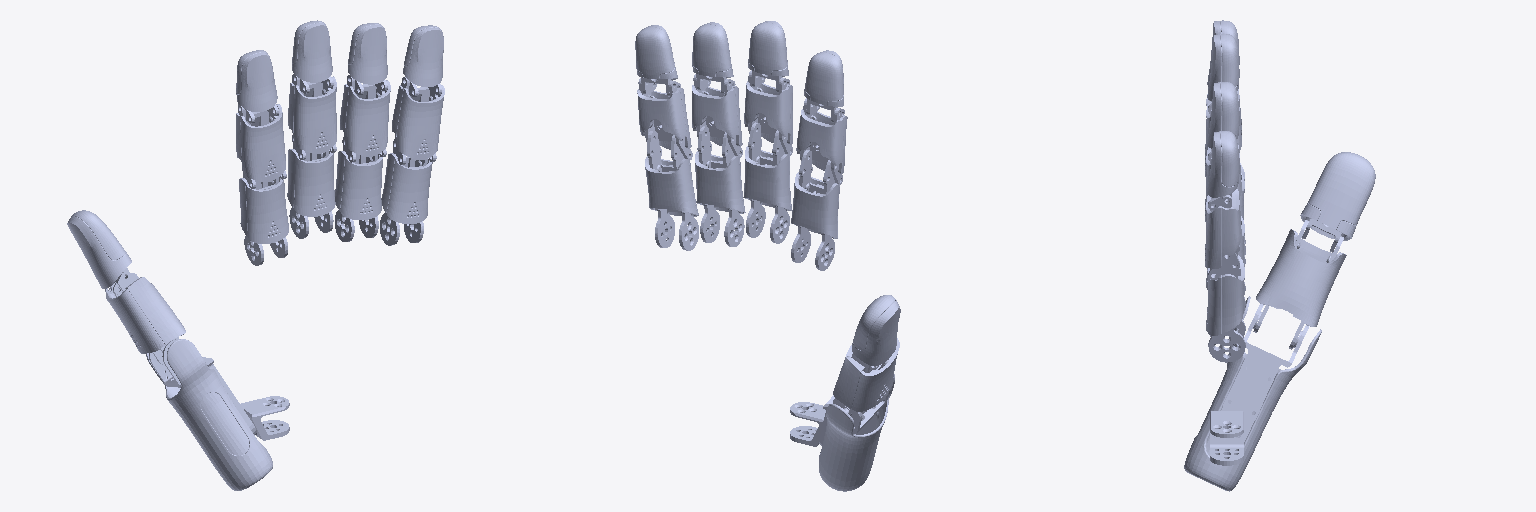
URDF robot description (righthand):
<?xml version="1.0" encoding="utf-8"?>
<!-- This URDF was automatically created by SolidWorks to URDF Exporter! Originally created by [author] ([email redacted]) 
     Commit Version: 1.6.0-1-g15f4949  Build Version: 1.6.7594.29634
     For more information, please see http://wiki.ros.org/sw_urdf_exporter -->
<robot
  name="righthand">
  <link
    name="base_link">
    <inertial>
      <origin
        xyz="0.0011743 -0.0017657 0.058158"
        rpy="0 0 0" />
      <mass
        value="0.42029" />
      <inertia
        ixx="0.0002338"
        ixy="-2.3144E-07"
        ixz="3.6343E-05"
        iyy="0.0004292"
        iyz="1.3161E-05"
        izz="0.0002322" />
    </inertial>
    <visual>
      <origin
        xyz="0 0 0"
        rpy="0 0 0" />
      <geometry>
        <mesh
          filename="package://righthand/meshes/base_link.dae" />
      </geometry>
      <material
        name="">
        <color
          rgba="0.79216 0.81961 0.93333 1" />
      </material>
    </visual>
    <collision>
      <origin
        xyz="0 0 0"
        rpy="0 0 0" />
      <geometry>
        <mesh
          filename="package://righthand/meshes/base_link.dae" />
      </geometry>
    </collision>
  </link>
  <link
    name="index_Link1">
    <inertial>
      <origin
        xyz="0.018514 0.00061106 4.4636E-07"
        rpy="0 0 0" />
      <mass
        value="0.011981" />
      <inertia
        ixx="4.9084E-07"
        ixy="1.433E-08"
        ixz="2.2179E-11"
        iyy="1.5764E-06"
        iyz="9.595E-12"
        izz="1.2249E-06" />
    </inertial>
    <visual>
      <origin
        xyz="0 0 0"
        rpy="0 0 0" />
      <geometry>
        <mesh
          filename="package://righthand/meshes/index_Link1.dae" />
      </geometry>
      <material
        name="">
        <color
          rgba="0.79216 0.81961 0.93333 1" />
      </material>
    </visual>
    <collision>
      <origin
        xyz="0 0 0"
        rpy="0 0 0" />
      <geometry>
        <mesh
          filename="package://righthand/meshes/index_Link1.dae" />
      </geometry>
    </collision>
  </link>
  <joint
    name="index_MCP"
    type="revolute">
    <origin
      xyz="-0.033581 -0.005 0.11001"
      rpy="0 -1.501 3.1416" />
    <parent
      link="base_link" />
    <child
      link="index_Link1" />
    <axis
      xyz="0 0 -1" />
    <limit
      lower="0"
      upper="1.5"
      effort="1"
      velocity="3" />
  </joint>
  <link
    name="index_Link2">
    <inertial>
      <origin
        xyz="0.0082824 0.001941 1.3975E-07"
        rpy="0 0 0" />
      <mass
        value="0.0060074" />
      <inertia
        ixx="2.6971E-07"
        ixy="2.2245E-08"
        ixz="-1.2945E-11"
        iyy="5.3814E-07"
        iyz="8.7958E-12"
        izz="3.0793E-07" />
    </inertial>
    <visual>
      <origin
        xyz="0 0 0"
        rpy="0 0 0" />
      <geometry>
        <mesh
          filename="package://righthand/meshes/index_Link2.dae" />
      </geometry>
      <material
        name="">
        <color
          rgba="0.79216 0.81961 0.93333 1" />
      </material>
    </visual>
    <collision>
      <origin
        xyz="0 0 0"
        rpy="0 0 0" />
      <geometry>
        <mesh
          filename="package://righthand/meshes/index_Link2.dae" />
      </geometry>
    </collision>
  </link>
  <joint
    name="index_PIP"
    type="revolute">
    <origin
      xyz="0.0415 0 0"
      rpy="0 0 0" />
    <parent
      link="index_Link1" />
    <child
      link="index_Link2" />
    <axis
      xyz="0 0 -1" />
    <limit
      lower="0"
      upper="1.5"
      effort="1"
      velocity="3" />
    <mimic 
       joint="index_MCP"
       multiplier="1.0"
       offset="0" />
  </joint>
  <link
    name="index_Link3">
    <inertial>
      <origin
        xyz="0.0112969418282597 0.00070376452437006 -4.49269793478813E-07"
        rpy="0 0 0" />
      <mass
        value="0.00400863036138307" />
      <inertia
        ixx="9.03317000731166E-08"
        ixy="-8.32523752410259E-10"
        ixz="-4.17956408194564E-12"
        iyy="2.17286602190014E-07"
        iyz="-2.27344935347876E-12"
        izz="1.57318802918579E-07" />
    </inertial>
    <visual>
      <origin
        xyz="0 0 0"
        rpy="0 0 0" />
      <geometry>
        <mesh
          filename="package://righthand/meshes/index_Link3.dae" />
      </geometry>
      <material
        name="">
        <color
          rgba="0.792156862745098 0.819607843137255 0.933333333333333 1" />
      </material>
    </visual>
    <collision>
      <origin
        xyz="0 0 0"
        rpy="0 0 0" />
      <geometry>
        <mesh
          filename="package://righthand/meshes/index_Link3.dae" />
      </geometry>
    </collision>
  </link>
  <joint
    name="index_DIP"
    type="revolute">
    <origin
      xyz="0.0245 0 0"
      rpy="0 0 0" />
    <parent
      link="index_Link2" />
    <child
      link="index_Link3" />
    <axis
      xyz="0 0 -1" />
    <limit
      lower="0"
      upper="1.5"
      effort="1"
      velocity="3" />
    <mimic 
       joint="index_PIP"
       multiplier="0.8"
       offset="0" />
  </joint>
  <link
    name="thumb_Link1">
    <inertial>
      <origin
        xyz="0.023451 -0.0065156 0.0070806"
        rpy="0 0 0" />
      <mass
        value="0.069915" />
      <inertia
        ixx="1.7585E-05"
        ixy="2.2256E-06"
        ixz="-4.9145E-06"
        iyy="1.6396E-05"
        iyz="3.9608E-06"
        izz="1.1324E-05" />
    </inertial>
    <visual>
      <origin
        xyz="0 0 0"
        rpy="0 0 0" />
      <geometry>
        <mesh
          filename="package://righthand/meshes/thumb_Link1.dae" />
      </geometry>
      <material
        name="">
        <color
          rgba="0.79216 0.81961 0.93333 1" />
      </material>
    </visual>
    <collision>
      <origin
        xyz="0 0 0"
        rpy="0 0 0" />
      <geometry>
        <mesh
          filename="package://righthand/meshes/thumb_Link1.dae" />
      </geometry>
    </collision>
  </link>
  <joint
    name="thumb_CMC"
    type="revolute">
    <origin
      xyz="-0.03 -0.005 0.031"
      rpy="0 0 3.1416" />
    <parent
      link="base_link" />
    <child
      link="thumb_Link1" />
    <axis
      xyz="0 0 -1" />
    <limit
      lower="-0.5"
      upper="1.5"
      effort="1"
      velocity="3" />
  </joint>
  <link
    name="thumb_Link2">
    <inertial>
      <origin
        xyz="0.019578 -0.0022668 1.3031E-06"
        rpy="0 0 0" />
      <mass
        value="0.014007" />
      <inertia
        ixx="9.4043E-07"
        ixy="-4.0439E-08"
        ixz="2.0376E-10"
        iyy="1.8622E-06"
        iyz="-4.8396E-11"
        izz="1.2635E-06" />
    </inertial>
    <visual>
      <origin
        xyz="0 0 0"
        rpy="0 0 0" />
      <geometry>
        <mesh
          filename="package://righthand/meshes/thumb_Link2.dae" />
      </geometry>
      <material
        name="">
        <color
          rgba="0.79216 0.81961 0.93333 1" />
      </material>
    </visual>
    <collision>
      <origin
        xyz="0 0 0"
        rpy="0 0 0" />
      <geometry>
        <mesh
          filename="package://righthand/meshes/thumb_Link2.dae" />
      </geometry>
    </collision>
  </link>
  <joint
    name="thumb_MP"
    type="revolute">
    <origin
      xyz="0.037554 -0.019018 0.029117"
      rpy="-0.83451 -0.96385 -0.83451" />
    <parent
      link="thumb_Link1" />
    <child
      link="thumb_Link2" />
    <axis
      xyz="0 0 -1" />
    <limit
      lower="-1"
      upper="1"
      effort="1"
      velocity="3" />
  </joint>
  <link
    name="thumb_Link3">
    <inertial>
      <origin
        xyz="0.015427 -0.00030817 -4.6143E-05"
        rpy="0 0 0" />
      <mass
        value="0.0069853" />
      <inertia
        ixx="2.4628E-07"
        ixy="-2.2831E-08"
        ixz="6.4729E-10"
        iyy="5.9224E-07"
        iyz="1.1223E-09"
        izz="4.4492E-07" />
    </inertial>
    <visual>
      <origin
        xyz="0 0 0"
        rpy="0 0 0" />
      <geometry>
        <mesh
          filename="package://righthand/meshes/thumb_Link3.dae" />
      </geometry>
      <material
        name="">
        <color
          rgba="0.79216 0.81961 0.93333 1" />
      </material>
    </visual>
    <collision>
      <origin
        xyz="0 0 0"
        rpy="0 0 0" />
      <geometry>
        <mesh
          filename="package://righthand/meshes/thumb_Link3.dae" />
      </geometry>
    </collision>
  </link>
  <joint
    name="thumb_IP"
    type="revolute">
    <origin
      xyz="0.04 0 0"
      rpy="0 0 0" />
    <parent
      link="thumb_Link2" />
    <child
      link="thumb_Link3" />
    <axis
      xyz="0 0 -1" />
    <limit
      lower="0"
      upper="1"
      effort="1"
      velocity="3" />
  </joint>
  <link
    name="middle_Link1">
    <inertial>
      <origin
        xyz="0.018514 0.00061105 4.4528E-07"
        rpy="0 0 0" />
      <mass
        value="0.011981" />
      <inertia
        ixx="4.9084E-07"
        ixy="1.4329E-08"
        ixz="2.1815E-11"
        iyy="1.5764E-06"
        iyz="9.6161E-12"
        izz="1.2249E-06" />
    </inertial>
    <visual>
      <origin
        xyz="0 0 0"
        rpy="0 0 0" />
      <geometry>
        <mesh
          filename="package://righthand/meshes/middle_Link1.dae" />
      </geometry>
      <material
        name="">
        <color
          rgba="0.79216 0.81961 0.93333 1" />
      </material>
    </visual>
    <collision>
      <origin
        xyz="0 0 0"
        rpy="0 0 0" />
      <geometry>
        <mesh
          filename="package://righthand/meshes/middle_Link1.dae" />
      </geometry>
    </collision>
  </link>
  <joint
    name="middle_MCP"
    type="revolute">
    <origin
      xyz="-0.012 -0.005 0.117"
      rpy="3.1416 -1.5708 0" />
    <parent
      link="base_link" />
    <child
      link="middle_Link1" />
    <axis
      xyz="0 0 -1" />
    <limit
      lower="0"
      upper="1.5"
      effort="1"
      velocity="3" />
  </joint>
  <link
    name="middle_Link2">
    <inertial>
      <origin
        xyz="0.013657 0.001941 1.1803E-07"
        rpy="0 0 0" />
      <mass
        value="0.0060074" />
      <inertia
        ixx="2.6971E-07"
        ixy="2.2245E-08"
        ixz="-1.3471E-11"
        iyy="5.3814E-07"
        iyz="8.5001E-12"
        izz="3.0793E-07" />
    </inertial>
    <visual>
      <origin
        xyz="0 0 0"
        rpy="0 0 0" />
      <geometry>
        <mesh
          filename="package://righthand/meshes/middle_Link2.dae" />
      </geometry>
      <material
        name="">
        <color
          rgba="0.79216 0.81961 0.93333 1" />
      </material>
    </visual>
    <collision>
      <origin
        xyz="0 0 0"
        rpy="0 0 0" />
      <geometry>
        <mesh
          filename="package://righthand/meshes/middle_Link2.dae" />
      </geometry>
    </collision>
  </link>
  <joint
    name="middle_PIP"
    type="revolute">
    <origin
      xyz="0.036125 0 0"
      rpy="0 0 0" />
    <parent
      link="middle_Link1" />
    <child
      link="middle_Link2" />
    <axis
      xyz="0 0 -1" />
    <limit
      lower="0"
      upper="1.5"
      effort="1"
      velocity="3" />
    <mimic 
      joint="middle_MCP"
      multiplier="1.0"
      offset="0" />
  </joint>
  <link
    name="middle_Link3">
    <inertial>
      <origin
        xyz="0.011297 0.00070372 -5.4465E-07"
        rpy="0 0 0" />
      <mass
        value="0.0040087" />
      <inertia
        ixx="9.0335E-08"
        ixy="-8.3332E-10"
        ixz="-5.552E-12"
        iyy="2.1729E-07"
        iyz="-4.7461E-12"
        izz="1.5732E-07" />
    </inertial>
    <visual>
      <origin
        xyz="0 0 0"
        rpy="0 0 0" />
      <geometry>
        <mesh
          filename="package://righthand/meshes/middle_Link3.dae" />
      </geometry>
      <material
        name="">
        <color
          rgba="0.79216 0.81961 0.93333 1" />
      </material>
    </visual>
    <collision>
      <origin
        xyz="0 0 0"
        rpy="0 0 0" />
      <geometry>
        <mesh
          filename="package://righthand/meshes/middle_Link3.dae" />
      </geometry>
    </collision>
  </link>
  <joint
    name="middle_DIP"
    type="revolute">
    <origin
      xyz="0.029875 0 0"
      rpy="0 0 0" />
    <parent
      link="middle_Link2" />
    <child
      link="middle_Link3" />
    <axis
      xyz="0 0 -1" />
    <limit
      lower="0"
      upper="1.5"
      effort="1"
      velocity="3" />
    <mimic 
      joint="middle_PIP"
      multiplier="0.8"
      offset="0" />
  </joint>
  <link
    name="ring_Link1">
    <inertial>
      <origin
        xyz="0.018514 0.00061104 4.4446E-07"
        rpy="0 0 0" />
      <mass
        value="0.011981" />
      <inertia
        ixx="4.9084E-07"
        ixy="1.4329E-08"
        ixz="2.1394E-11"
        iyy="1.5764E-06"
        iyz="9.6613E-12"
        izz="1.2249E-06" />
    </inertial>
    <visual>
      <origin
        xyz="0 0 0"
        rpy="0 0 0" />
      <geometry>
        <mesh
          filename="package://righthand/meshes/ring_Link1.dae" />
      </geometry>
      <material
        name="">
        <color
          rgba="0.79216 0.81961 0.93333 1" />
      </material>
    </visual>
    <collision>
      <origin
        xyz="0 0 0"
        rpy="0 0 0" />
      <geometry>
        <mesh
          filename="package://righthand/meshes/ring_Link1.dae" />
      </geometry>
    </collision>
  </link>
  <joint
    name="ring_MCP"
    type="revolute">
    <origin
      xyz="0.0095815 -0.005 0.11001"
      rpy="3.1416 -1.501 0" />
    <parent
      link="base_link" />
    <child
      link="ring_Link1" />
    <axis
      xyz="0 0 -1" />
    <limit
      lower="0"
      upper="1.5"
      effort="1"
      velocity="3" />
  </joint>
  <link
    name="ring_Link2">
    <inertial>
      <origin
        xyz="0.0082825 0.0019411 1.0664E-07"
        rpy="0 0 0" />
      <mass
        value="0.0060074" />
      <inertia
        ixx="2.6971E-07"
        ixy="2.2245E-08"
        ixz="-1.3354E-11"
        iyy="5.3814E-07"
        iyz="8.3737E-12"
        izz="3.0793E-07" />
    </inertial>
    <visual>
      <origin
        xyz="0 0 0"
        rpy="0 0 0" />
      <geometry>
        <mesh
          filename="package://righthand/meshes/ring_Link2.dae" />
      </geometry>
      <material
        name="">
        <color
          rgba="0.79216 0.81961 0.93333 1" />
      </material>
    </visual>
    <collision>
      <origin
        xyz="0 0 0"
        rpy="0 0 0" />
      <geometry>
        <mesh
          filename="package://righthand/meshes/ring_Link2.dae" />
      </geometry>
    </collision>
  </link>
  <joint
    name="ring_PIP"
    type="revolute">
    <origin
      xyz="0.0415 0 0"
      rpy="0 0 0" />
    <parent
      link="ring_Link1" />
    <child
      link="ring_Link2" />
    <axis
      xyz="0 0 -1" />
    <limit
      lower="0"
      upper="1.5"
      effort="1"
      velocity="3" />
    <mimic 
      joint="ring_MCP"
      multiplier="1.0"
      offset="0" />
  </joint>
  <link
    name="ring_Link3">
    <inertial>
      <origin
        xyz="0.011297 0.0007036 -8.3367E-07"
        rpy="0 0 0" />
      <mass
        value="0.0040088" />
      <inertia
        ixx="9.0345E-08"
        ixy="-8.3527E-10"
        ixz="-8.0239E-12"
        iyy="2.173E-07"
        iyz="-1.1263E-11"
        izz="1.5733E-07" />
    </inertial>
    <visual>
      <origin
        xyz="0 0 0"
        rpy="0 0 0" />
      <geometry>
        <mesh
          filename="package://righthand/meshes/ring_Link3.dae" />
      </geometry>
      <material
        name="">
        <color
          rgba="0.79216 0.81961 0.93333 1" />
      </material>
    </visual>
    <collision>
      <origin
        xyz="0 0 0"
        rpy="0 0 0" />
      <geometry>
        <mesh
          filename="package://righthand/meshes/ring_Link3.dae" />
      </geometry>
    </collision>
  </link>
  <joint
    name="ring_DIP"
    type="revolute">
    <origin
      xyz="0.0245 0 0"
      rpy="0 0 0" />
    <parent
      link="ring_Link2" />
    <child
      link="ring_Link3" />
    <axis
      xyz="0 0 -1" />
    <limit
      lower="0"
      upper="1.5"
      effort="1"
      velocity="3" />
    <mimic 
      joint="ring_PIP"
      multiplier="0.8"
      offset="0" />
  </joint>
  <link
    name="little_Link1">
    <inertial>
      <origin
        xyz="0.018514 0.00061104 4.4446E-07"
        rpy="0 0 0" />
      <mass
        value="0.011981" />
      <inertia
        ixx="4.9084E-07"
        ixy="1.4329E-08"
        ixz="2.1394E-11"
        iyy="1.5764E-06"
        iyz="9.6613E-12"
        izz="1.2249E-06" />
    </inertial>
    <visual>
      <origin
        xyz="0 0 0"
        rpy="0 0 0" />
      <geometry>
        <mesh
          filename="package://righthand/meshes/little_Link1.dae" />
      </geometry>
      <material
        name="">
        <color
          rgba="0.79216 0.81961 0.93333 1" />
      </material>
    </visual>
    <collision>
      <origin
        xyz="0 0 0"
        rpy="0 0 0" />
      <geometry>
        <mesh
          filename="package://righthand/meshes/little_Link1.dae" />
      </geometry>
    </collision>
  </link>
  <joint
    name="little_MCP"
    type="revolute">
    <origin
      xyz="0.031165 -0.005 0.10306"
      rpy="3.1416 -1.4312 0" />
    <parent
      link="base_link" />
    <child
      link="little_Link1" />
    <axis
      xyz="0 0 -1" />
    <limit
      lower="0"
      upper="1.5"
      effort="1"
      velocity="3" />
  </joint>
  <link
    name="little_Link2">
    <inertial>
      <origin
        xyz="0.0082824 0.001941 1.3548E-07"
        rpy="0 0 0" />
      <mass
        value="0.0060074" />
      <inertia
        ixx="2.6971E-07"
        ixy="2.2245E-08"
        ixz="-1.257E-11"
        iyy="5.3814E-07"
        iyz="8.7578E-12"
        izz="3.0793E-07" />
    </inertial>
    <visual>
      <origin
        xyz="0 0 0"
        rpy="0 0 0" />
      <geometry>
        <mesh
          filename="package://righthand/meshes/little_Link2.dae" />
      </geometry>
      <material
        name="">
        <color
          rgba="0.79216 0.81961 0.93333 1" />
      </material>
    </visual>
    <collision>
      <origin
        xyz="0 0 0"
        rpy="0 0 0" />
      <geometry>
        <mesh
          filename="package://righthand/meshes/little_Link2.dae" />
      </geometry>
    </collision>
  </link>
  <joint
    name="little_PIP"
    type="revolute">
    <origin
      xyz="0.0415 0 0"
      rpy="0 0 0" />
    <parent
      link="little_Link1" />
    <child
      link="little_Link2" />
    <axis
      xyz="0 0 -1" />
    <limit
      lower="0"
      upper="1.5"
      effort="1"
      velocity="3" />
    <mimic 
      joint="little_MCP"
      multiplier="1.0"
      offset="0" />
  </joint>
  <link
    name="little_Link3">
    <inertial>
      <origin
        xyz="0.011297 0.00070363 -7.8629E-07"
        rpy="0 0 0" />
      <mass
        value="0.0040088" />
      <inertia
        ixx="9.0343E-08"
        ixy="-8.3492E-10"
        ixz="-8.37E-12"
        iyy="2.173E-07"
        iyz="-1.0092E-11"
        izz="1.5732E-07" />
    </inertial>
    <visual>
      <origin
        xyz="0 0 0"
        rpy="0 0 0" />
      <geometry>
        <mesh
          filename="package://righthand/meshes/little_Link3.dae" />
      </geometry>
      <material
        name="">
        <color
          rgba="0.79216 0.81961 0.93333 1" />
      </material>
    </visual>
    <collision>
      <origin
        xyz="0 0 0"
        rpy="0 0 0" />
      <geometry>
        <mesh
          filename="package://righthand/meshes/little_Link3.dae" />
      </geometry>
    </collision>
  </link>
  <joint
    name="little_DIP"
    type="revolute">
    <origin
      xyz="0.0245 0 0"
      rpy="0 0 0" />
    <parent
      link="little_Link2" />
    <child
      link="little_Link3" />
    <axis
      xyz="0 0 -1" />
    <limit
      lower="0"
      upper="1.5"
      effort="1"
      velocity="3" />
    <mimic 
      joint="little_PIP"
      multiplier="0.8"
      offset="0" />
  </joint>
</robot>

--- Render facts (derived) ---
3 views of the same robot in one strip: view 1: azimuth 30°, elevation 25°; view 2: azimuth 150°, elevation 25°; view 3: azimuth 270°, elevation 25° (orthographic).
Model righthand with 16 links and 15 joints (15 revolute), rooted at base_link, posed all joints at 0.
Links seen in each view (by area): view 1: thumb_Link1, thumb_Link2, little_Link1, ring_Link1, middle_Link1, index_Link1, little_Link2, ring_Link2, middle_Link2, index_Link2, thumb_Link3, middle_Link3 (+3 smaller); view 2: thumb_Link1, little_Link1, ring_Link1, middle_Link1, index_Link1, little_Link2, ring_Link2, middle_Link2, index_Link2, thumb_Link2, thumb_Link3, little_Link3 (+3 smaller); view 3: thumb_Link1, thumb_Link2, thumb_Link3, little_Link1, little_Link2, little_Link3, ring_Link3, middle_Link3.
Boxes of the visible links, bbox=[...] form: thumb_Link1: bbox=[146, 339, 289, 490]; thumb_Link2: bbox=[106, 272, 185, 364]; little_Link1: bbox=[380, 139, 432, 245]; ring_Link1: bbox=[335, 137, 382, 241]; middle_Link1: bbox=[287, 135, 335, 238]; index_Link1: bbox=[239, 165, 288, 265]; little_Link2: bbox=[392, 77, 444, 164]; ring_Link2: bbox=[340, 75, 390, 162]; middle_Link2: bbox=[288, 74, 336, 159]; index_Link2: bbox=[236, 104, 286, 188]; thumb_Link3: bbox=[67, 210, 131, 294]; middle_Link3: bbox=[292, 20, 333, 93]; thumb_Link1: bbox=[790, 374, 894, 491]; little_Link1: bbox=[645, 131, 698, 250]; ring_Link1: bbox=[695, 126, 745, 246]; middle_Link1: bbox=[743, 122, 791, 243]; index_Link1: bbox=[791, 150, 839, 270]; little_Link2: bbox=[637, 78, 692, 159]; ring_Link2: bbox=[692, 74, 742, 157]; middle_Link2: bbox=[744, 70, 792, 155]; index_Link2: bbox=[796, 98, 847, 184]; thumb_Link2: bbox=[833, 338, 899, 411]; thumb_Link3: bbox=[852, 295, 900, 369]; little_Link3: bbox=[635, 25, 680, 96]; thumb_Link1: bbox=[1184, 296, 1321, 491]; thumb_Link2: bbox=[1253, 220, 1346, 349]; thumb_Link3: bbox=[1300, 152, 1375, 252]; little_Link1: bbox=[1206, 245, 1245, 362]; little_Link2: bbox=[1205, 189, 1241, 279]; little_Link3: bbox=[1207, 131, 1239, 210]; ring_Link3: bbox=[1207, 82, 1239, 161]; middle_Link3: bbox=[1207, 34, 1239, 113].
Bounding box of the posed robot: 0.1504 × 0.0717 × 0.2037 m (x, y, z).
15 mesh visuals loaded from 16 distinct referenced files (15 Collada DAE); not drawn: 1 (reference not matched to a file when rendering).